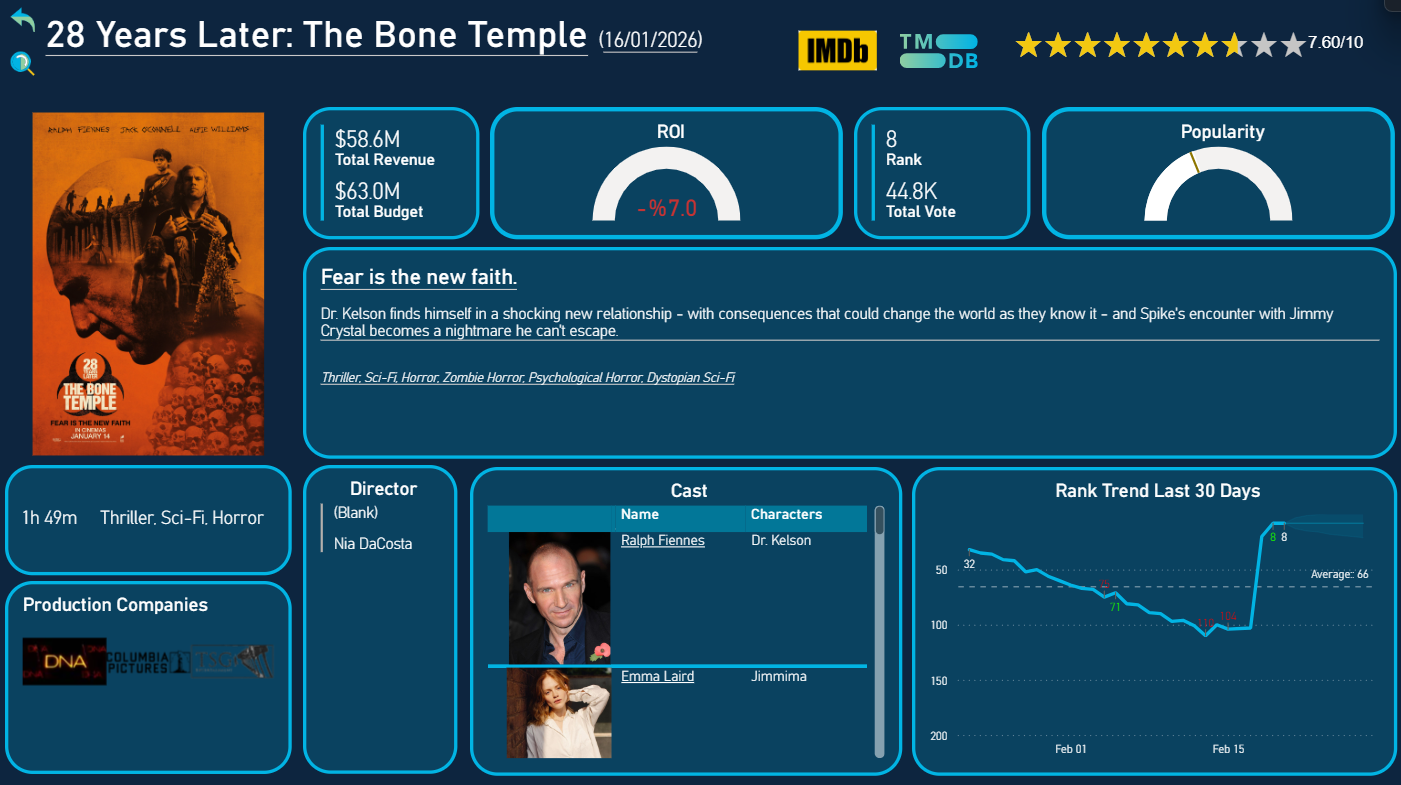

This screenshot's page, from the dashboard's own definition file:
{"tool":"powerbi","page":{"name":"Movies Detail","canvas":[1280,720],"ordinal":2},"visuals":[{"type":"shape","title":"ShapeBottomKPIs","box":[10,430,260,100],"z":0,"group":"g1"},{"type":"kpi","title":"Rank Trend","fields":{"Goal":["fact_popularity.YesterdayRank"],"Indicator":["Sum(fact_popularity.Rank)"],"TrendLine":["fact_popularity.loaddate"]},"box":[900,430,370,280],"z":0},{"type":"card","title":"Genres","fields":{"Values":["Min(dim_content.Genres)"]},"box":[74,430,192,96],"z":1000,"group":"g1"},{"type":"pivotTable","title":"Cast","fields":{"Rows":["dim_person.Poster"],"Values":["Sum(bridge_content_person.order_no)","Min(dim_person.Name)","Min(bridge_content_person.character_names)"]},"box":[430,430,460,280],"z":1000},{"type":"card","title":"Runtime","fields":{"Values":["Min(dim_content.RuntimeDisplay)"]},"box":[10,430,80,96],"z":2000,"group":"g1"},{"type":"multiRowCard","title":"Director","fields":{"Values":["dim_person.Poster","Min(dim_person.Name)"]},"box":[280,430,140,280],"z":2000},{"type":"ratingsvisual001","title":"Rating","fields":{"measure":["Sum(dim_content.Score)"]},"box":[897,19.7,373,68.6],"z":2500,"group":"g2"},{"type":"image","title":"logoTMDB","box":[815.9,19.7,81.1,68.6],"z":3000,"group":"g2"},{"type":"ImageGrid_FC5183B9_926C_45E0_B5F7_0CE9EAF1DA9B","title":"Production Companies","fields":{"ImageURL":["dim_production_company.Poster"]},"box":[10,535,260,175],"z":3000},{"type":"image","title":"logoIMDB","box":[724.6,19.7,81.1,68.6],"z":4000,"group":"g2"},{"type":"group","id":"g1","title":"BottomKPIs","box":[10,430,260,100],"z":4000},{"type":"textbox","title":"Overview","box":[280,230,990,192],"z":5000},{"type":"textbox","title":"Title","box":[42,10,656,90],"z":5250,"group":"g2"},{"type":"image","title":"iconSearch","box":[10,50,32,32],"z":5500,"group":"g2"},{"type":"image","title":"iconBack","box":[10,10,32,32],"z":6000,"group":"g2"},{"type":"gauge","title":"Popularity","fields":{"MaxValue":["fact_popularity.maxPopularityToday"],"MinValue":["Key Measures.M_minPopularityToday"],"TargetValue":["Key Measures.M_contentYesterdayPopularity"],"Y":["fact_popularity.Today Popularity"]},"box":[950,105,320,120],"z":6000},{"type":"multiRowCard","title":"TotalVotes","fields":{"Values":["fact_popularity.Rank Today","dim_content.Total Vote Display"]},"box":[780,105,160,120],"z":7000},{"type":"gauge","title":"ROI","fields":{"Y":["Key Measures.M_ROI%"]},"box":[450,105,320,120],"z":8000},{"type":"multiRowCard","title":"RevenueBudget","fields":{"Values":["Key Measures.M_RevTest","Key Measures.M_BudgetTest"]},"box":[280,105,160,120],"z":9000},{"type":"image","title":"Poster","box":[10,105,260,321],"z":10000},{"type":"group","id":"g2","title":"Header","box":[10,10,1260,90],"z":11000}]}

Visuals, with their boxes in screenshot pixels (x1, y1, x2, y2), scaled from the page's 1280x720 canvas onto the 1401x785 screenshot:
"ShapeBottomKPIs" shape: <bbox>11, 469, 296, 578</bbox>
"Rank Trend" kpi: <bbox>985, 469, 1390, 774</bbox>
"Genres" card: <bbox>81, 469, 291, 573</bbox>
"Cast" pivotTable: <bbox>471, 469, 974, 774</bbox>
"Runtime" card: <bbox>11, 469, 99, 573</bbox>
"Director" multiRowCard: <bbox>306, 469, 460, 774</bbox>
"Rating" ratingsvisual001: <bbox>982, 21, 1390, 96</bbox>
"logoTMDB" image: <bbox>893, 21, 982, 96</bbox>
"Production Companies" ImageGrid_FC5183B9_926C_45E0_B5F7_0CE9EAF1DA9B: <bbox>11, 583, 296, 774</bbox>
"logoIMDB" image: <bbox>793, 21, 882, 96</bbox>
"BottomKPIs" group: <bbox>11, 469, 296, 578</bbox>
"Overview" textbox: <bbox>306, 251, 1390, 460</bbox>
"Title" textbox: <bbox>46, 11, 764, 109</bbox>
"iconSearch" image: <bbox>11, 55, 46, 89</bbox>
"iconBack" image: <bbox>11, 11, 46, 46</bbox>
"Popularity" gauge: <bbox>1040, 114, 1390, 245</bbox>
"TotalVotes" multiRowCard: <bbox>854, 114, 1029, 245</bbox>
"ROI" gauge: <bbox>493, 114, 843, 245</bbox>
"RevenueBudget" multiRowCard: <bbox>306, 114, 482, 245</bbox>
"Poster" image: <bbox>11, 114, 296, 464</bbox>
"Header" group: <bbox>11, 11, 1390, 109</bbox>
